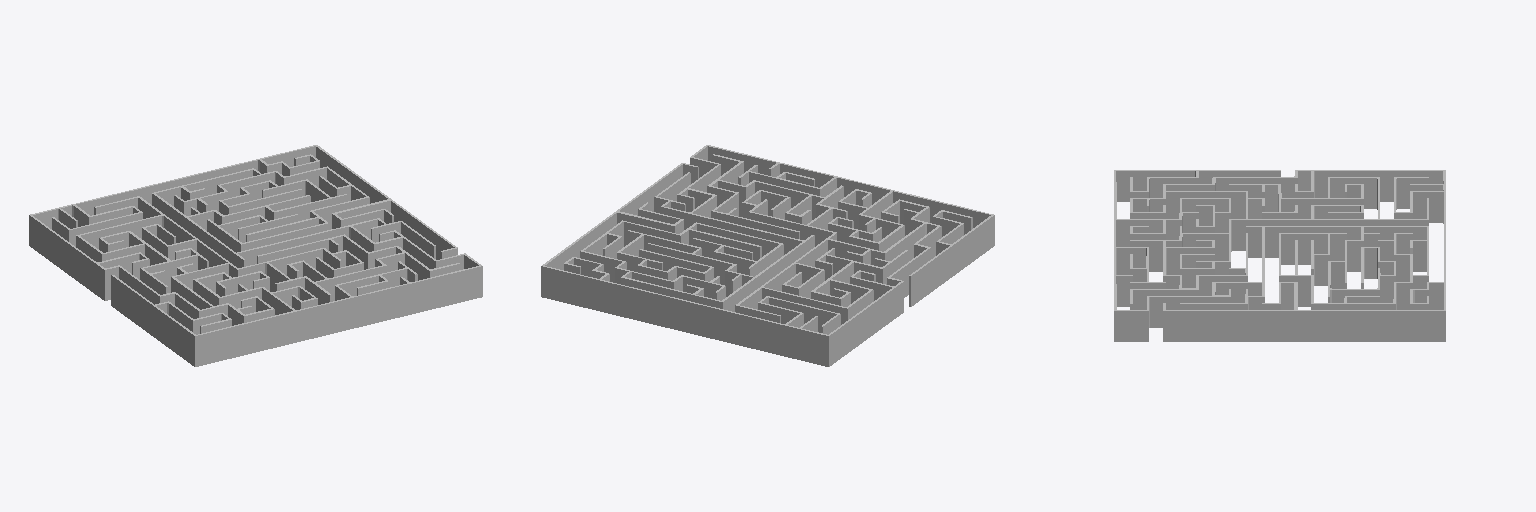
Rendered from maze.obj.
3 views of the same model, side by side, from view 1: azimuth 30°, elevation 25°; view 2: azimuth 150°, elevation 25°; view 3: azimuth 270°, elevation 25° (orthographic).
Parts seen in each view (by area): view 1: Object.2, Object.1; view 2: Object.1, Object.2; view 3: Object.1, Object.2.
Part boxes in pixels (bbox=[...]): Object.2: bbox=[111, 166, 482, 366]; Object.1: bbox=[29, 145, 460, 325]; Object.1: bbox=[541, 154, 941, 366]; Object.2: bbox=[580, 145, 994, 311]; Object.1: bbox=[1130, 170, 1445, 341]; Object.2: bbox=[1114, 170, 1428, 341].
Bounding box in the file's own units: 178 × 18.39 × 178.